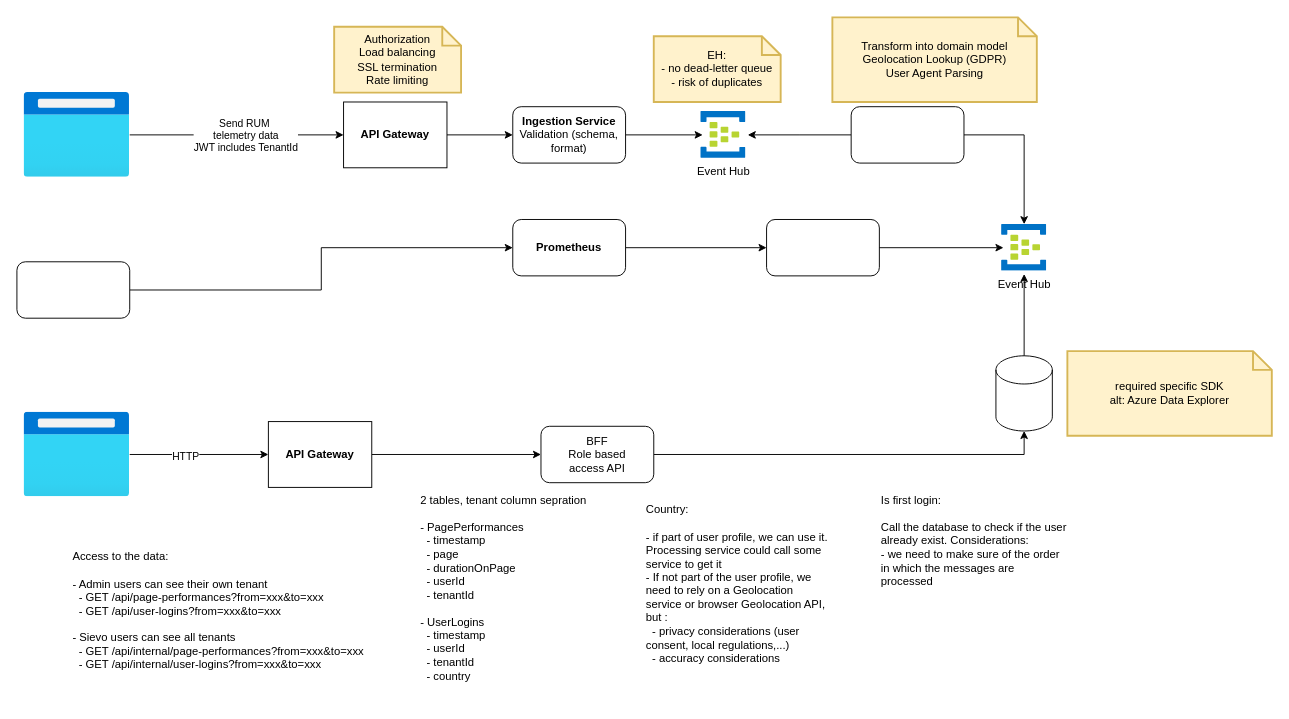
Image size: 1289x719. Some labels were removed from this diagram. The box of each missing label's shape, as (x1, y1, x2, y2) in pixels:
Apache Druid: (995, 355, 1052, 431)
Grafana: (16, 261, 130, 318)
OTEL Collector: (766, 219, 879, 276)
Processing Service Nifi?: (850, 106, 964, 163)
Web Application Any pages RUM agent: (24, 92, 129, 177)
Web Application User Telemetry: (24, 412, 129, 496)
